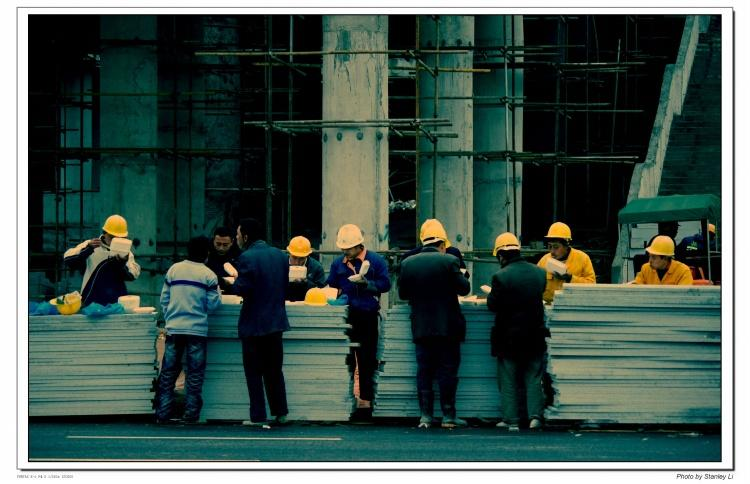helmet: (337, 223, 365, 250), (422, 219, 449, 245), (494, 234, 521, 257), (104, 215, 130, 238), (651, 236, 678, 258), (289, 238, 313, 259), (547, 222, 572, 240)
